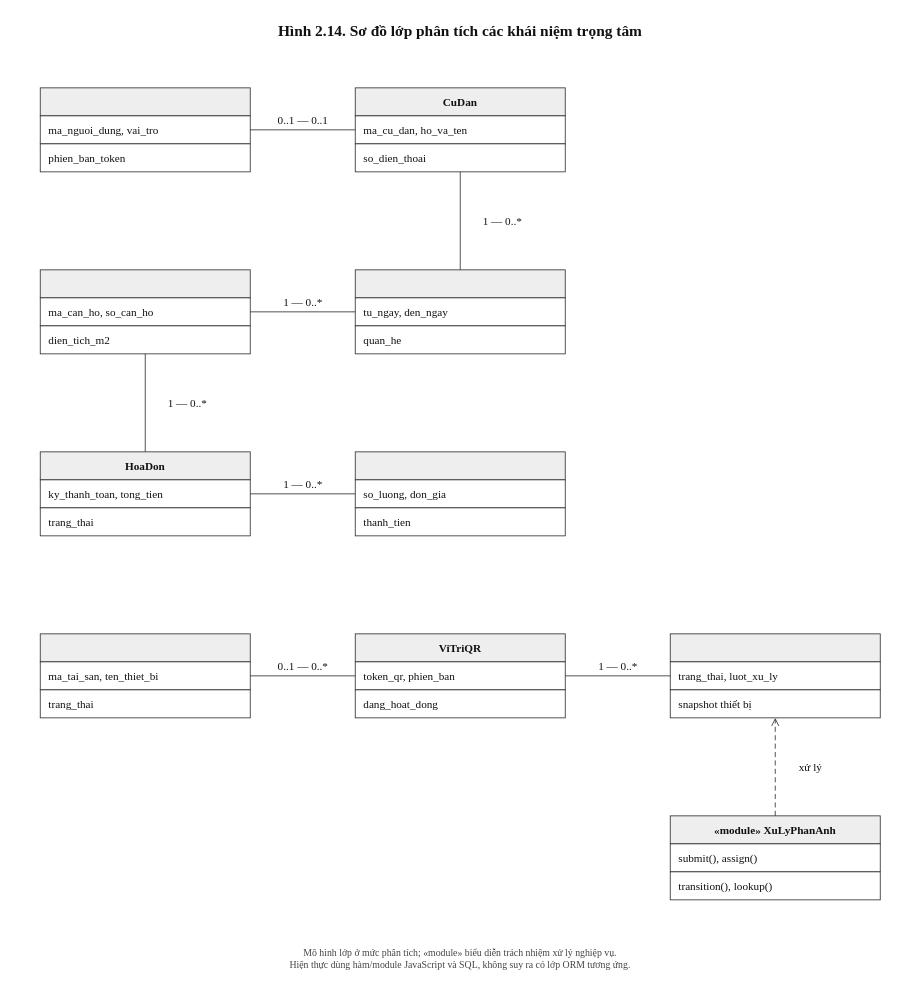
Some shapes in this 920 by 999 pixel diagram are drawn without their labels. The shapes that lost their labels are listed below. From the top down, each one's box as (x1, y1, x2, y2) in pixels, then its label:
(39, 87, 250, 116): NguoiDung
(39, 269, 250, 298): CanHo
(354, 269, 565, 298): DotCuTru
(354, 451, 565, 480): ChiTietHoaDon
(39, 633, 250, 662): ThietBi
(669, 633, 880, 662): PhanAnh
